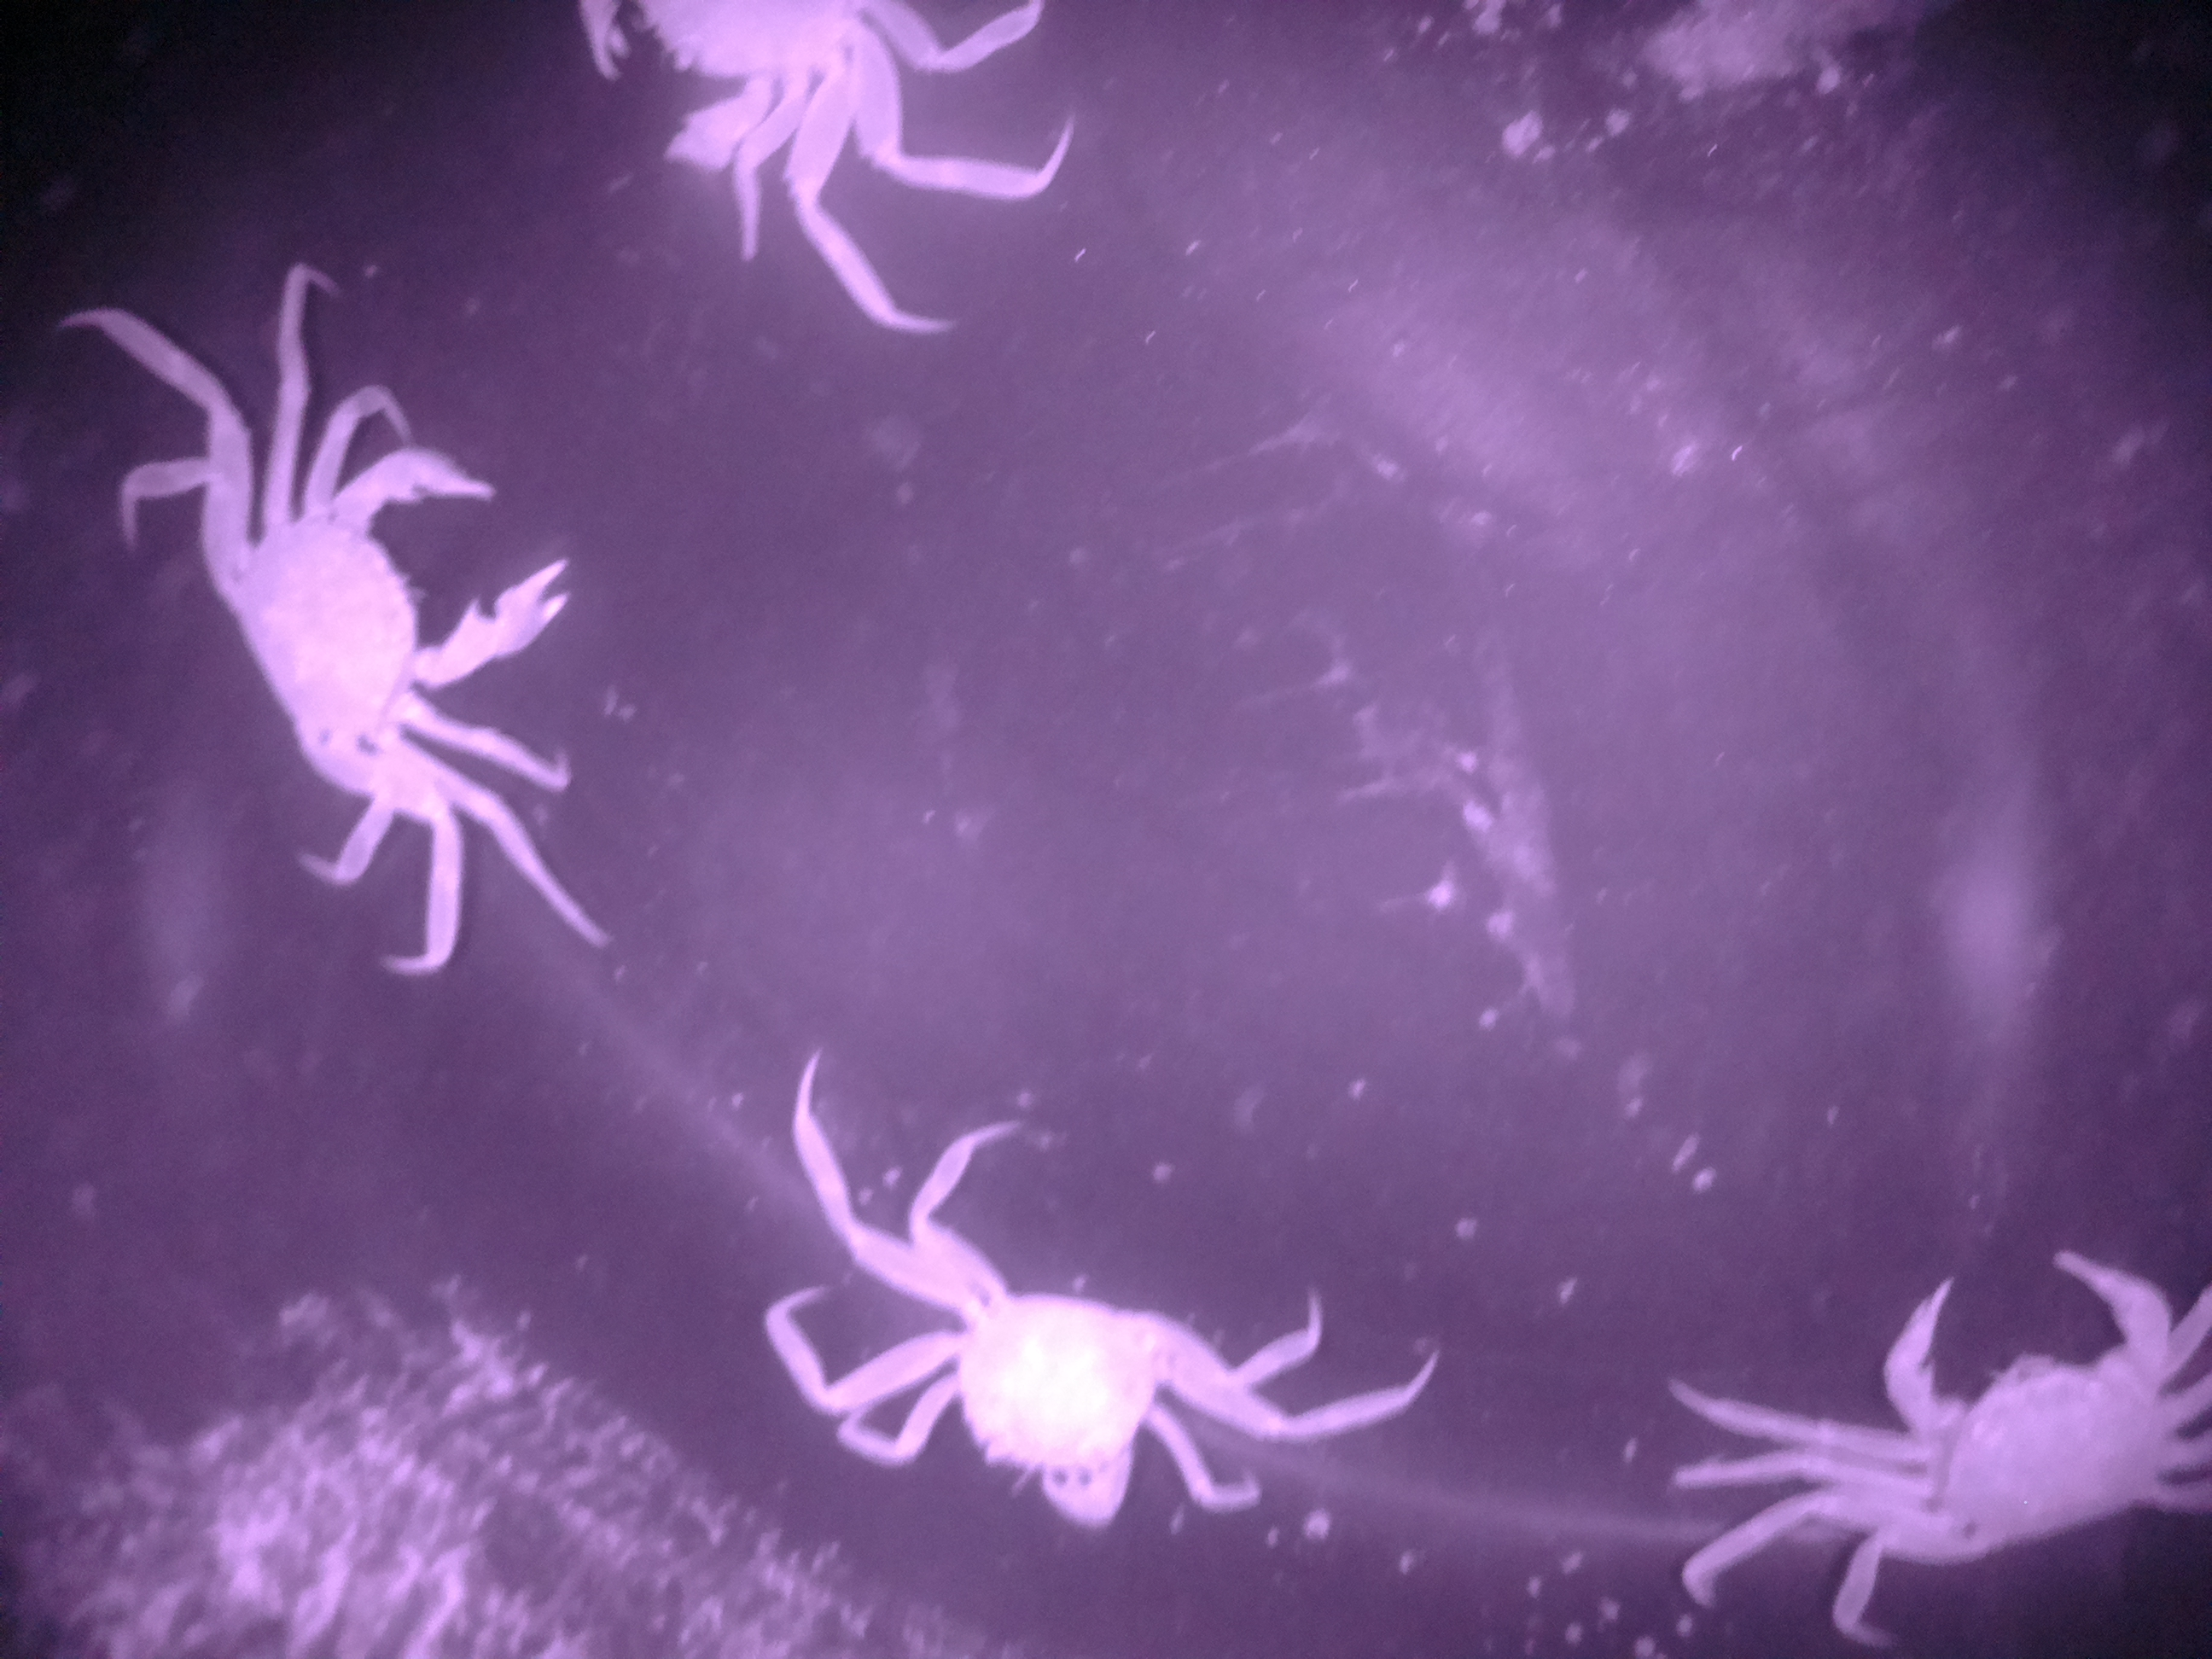Crab: (127, 408, 634, 802), (817, 1152, 1219, 1565), (1789, 1209, 2212, 1586)
